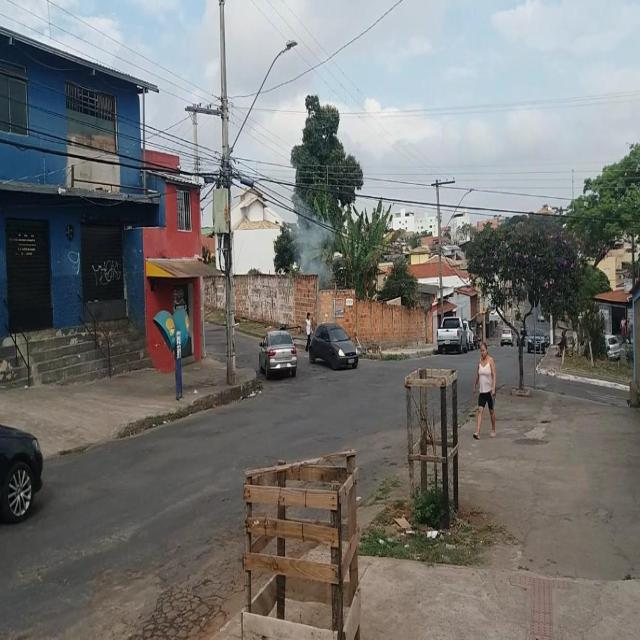Smoke: (290, 202, 336, 274)
